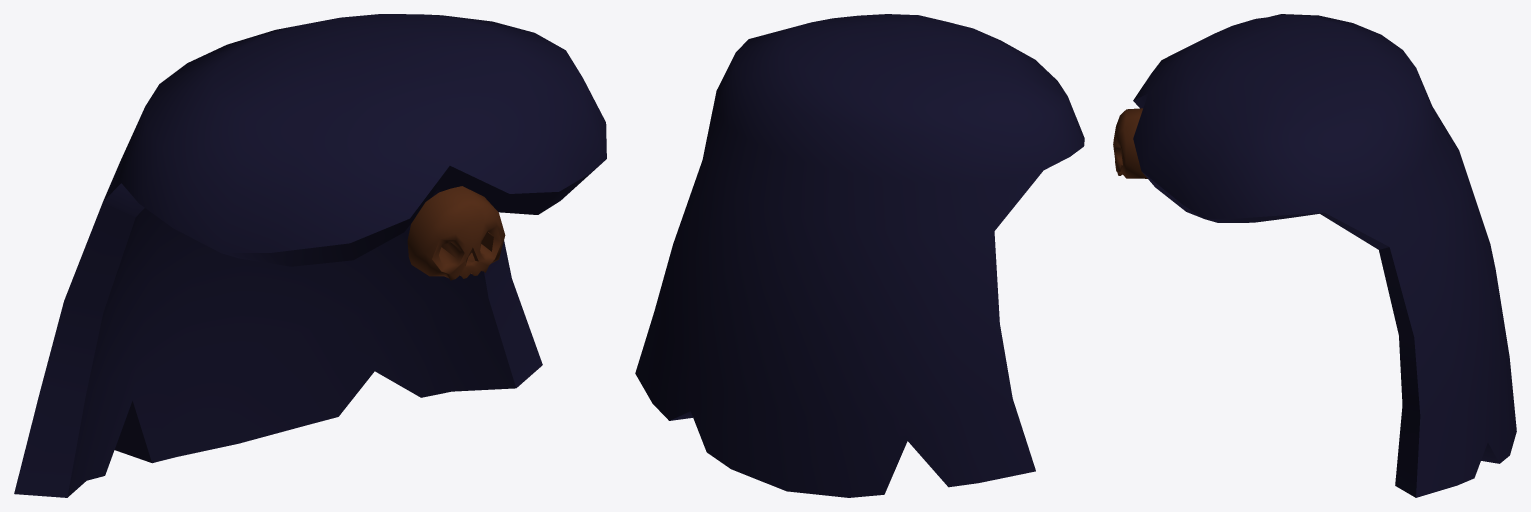
File: character_skeletonKing_cloak.obj
3 views of the same model, side by side, from view 1: azimuth 30°, elevation 25°; view 2: azimuth 150°, elevation 25°; view 3: azimuth 270°, elevation 25° (orthographic). The views are drawn at different scales.
Visible parts, largest first — view 1: character_skeletonKing_cloak_Cube.8138; view 2: character_skeletonKing_cloak_Cube.8138; view 3: character_skeletonKing_cloak_Cube.8138.
Part boxes in pixels (x1,y1,x2,y2): character_skeletonKing_cloak_Cube.8138: (14,14,606,497); character_skeletonKing_cloak_Cube.8138: (635,14,1084,497); character_skeletonKing_cloak_Cube.8138: (1113,14,1516,497).
Bounding box in the file's own units: 0.8725 × 0.7597 × 0.7396.
